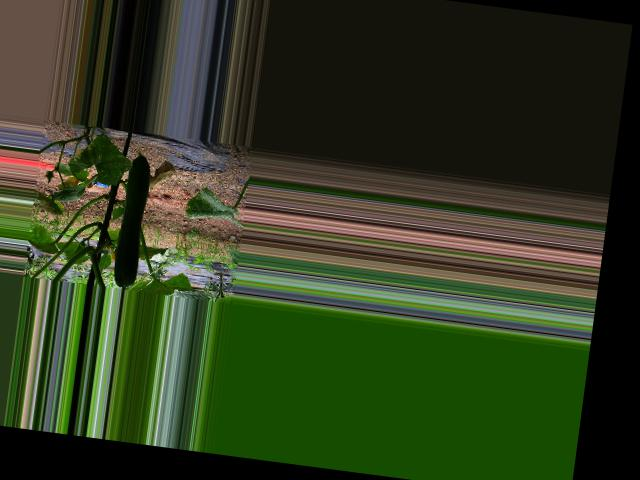cucumber: (111, 149, 154, 288)
